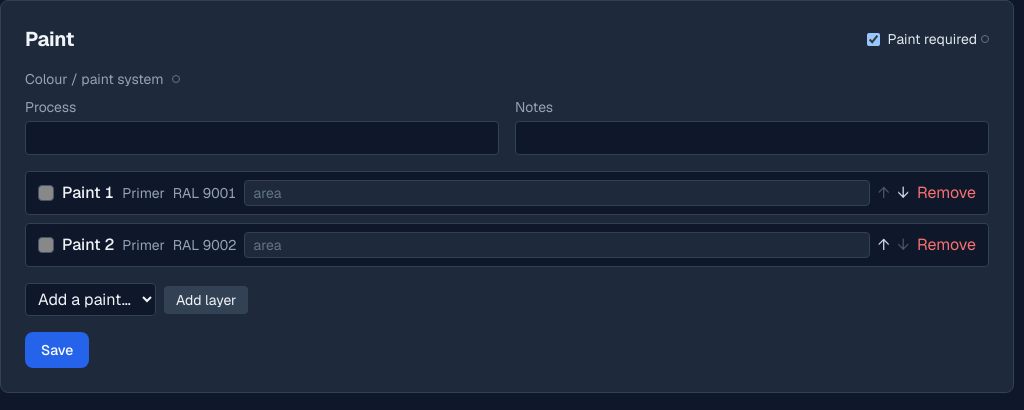
Test: PartPaintCard › reorders layers with move up/down
Check: the element with test id "paint-layer-0" is shown, box [25, 171, 989, 215]
Check: the element with test id "paint-layer-0" shows "Paint 1", box [62, 182, 114, 203]
Click the button with test id "move-down-0".
click(903, 193)  # box [898, 181, 909, 205]
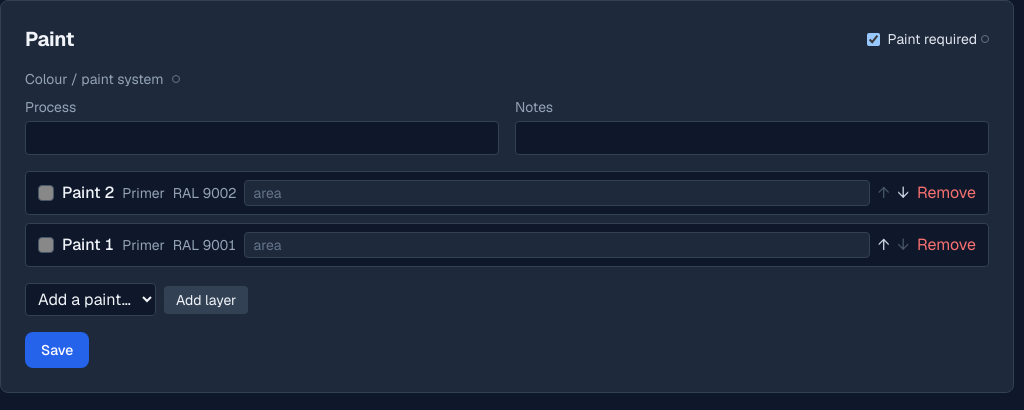
Check: the element with test id "paint-layer-0" shows "Paint 2", box [62, 182, 114, 203]
Check: the element with test id "paint-layer-1" shows "Paint 1", box [62, 234, 114, 255]
Click the button with test id "move-up-1".
click(884, 245)  # box [878, 233, 890, 257]
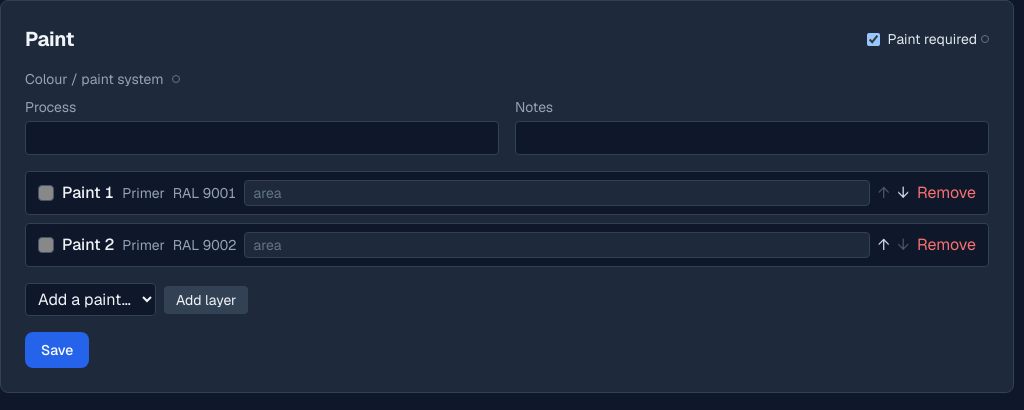
Check: the element with test id "paint-layer-0" shows "Paint 1", box [62, 182, 114, 203]
